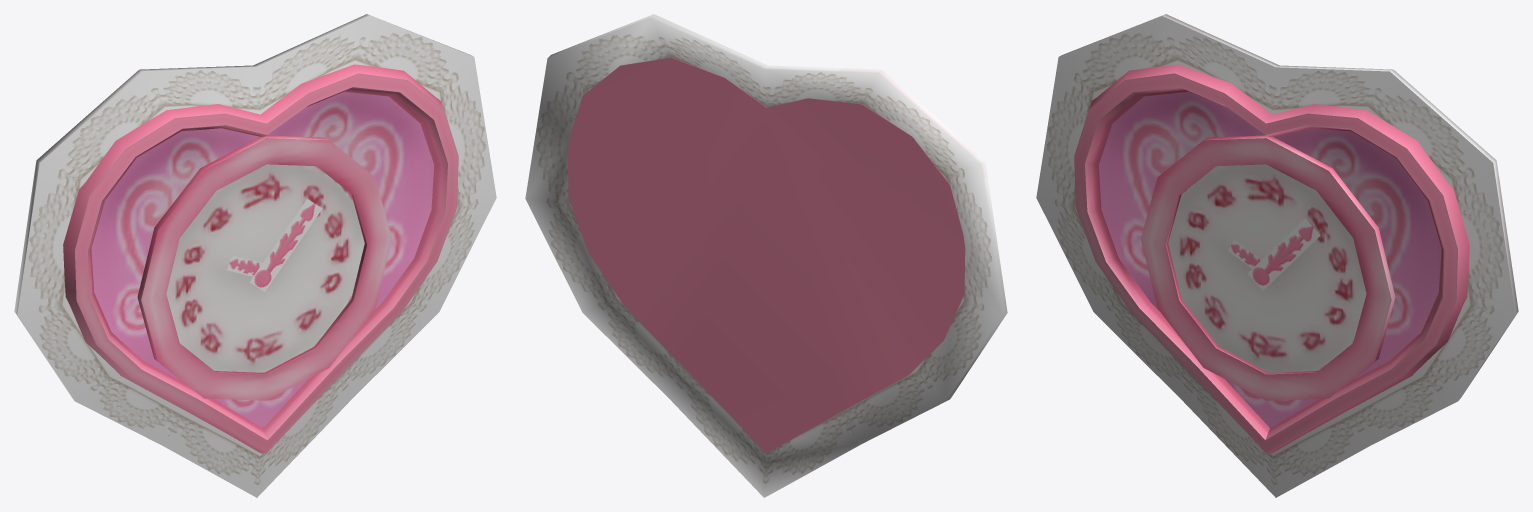
Rendered from GirlyClock_HD.fbx.
3 views of the same model, side by side, from view 1: azimuth 30°, elevation 25°; view 2: azimuth 150°, elevation 25°; view 3: azimuth 330°, elevation 25° (orthographic).
Visible parts, largest first — view 1: GirlyClock; view 2: GirlyClock; view 3: GirlyClock.
Part boxes in pixels (left/top/right/bottom): GirlyClock: left=14, top=14, right=496, bottom=497; GirlyClock: left=525, top=14, right=1007, bottom=497; GirlyClock: left=1036, top=14, right=1518, bottom=497.
Size of the model in its own units: 0.6945 by 0.6291 by 0.0377.
